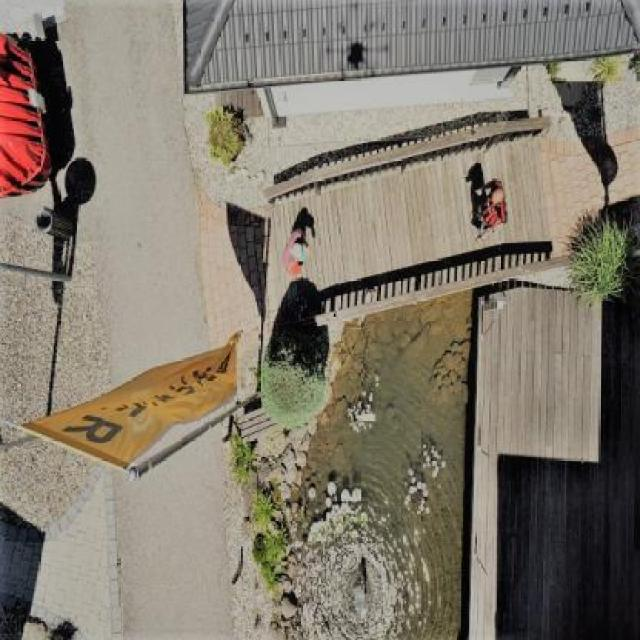Person: (464, 168, 508, 246), (277, 215, 311, 282)
